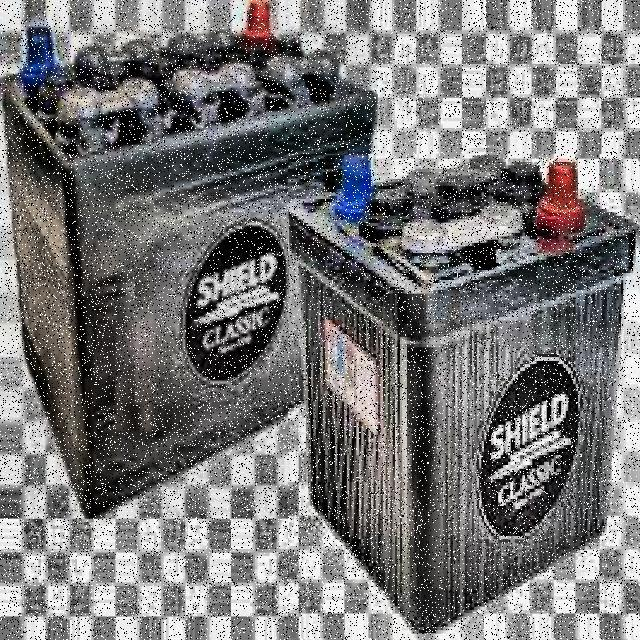B3: (26, 16, 640, 608)
